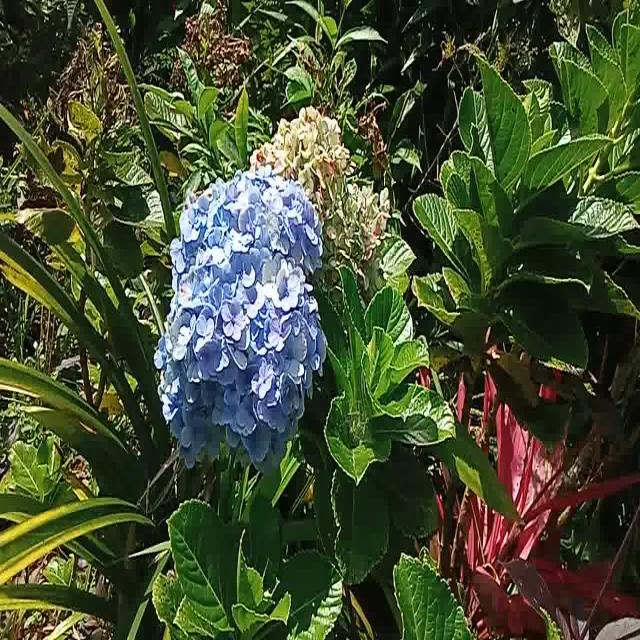Flower: (154, 159, 320, 473)
